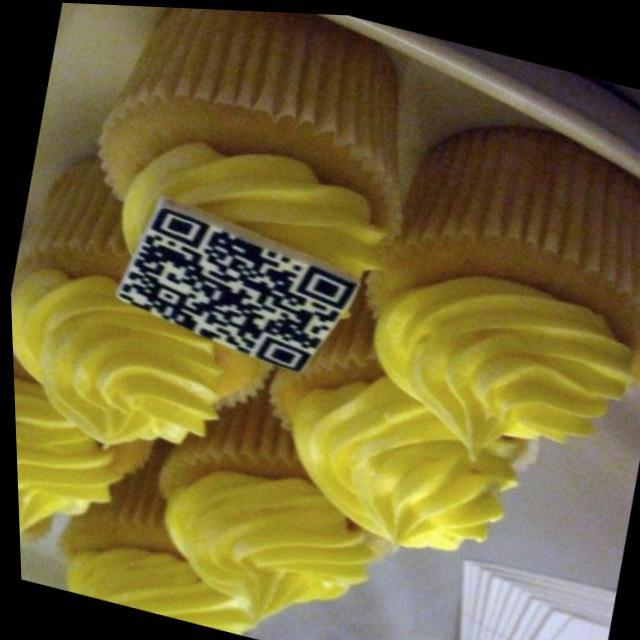qrcode: (106, 198, 363, 380)
